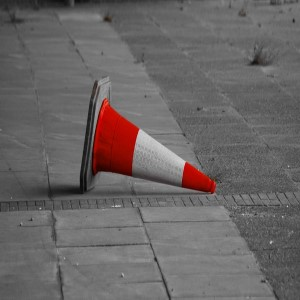traffic cone: (80, 75, 216, 194)
